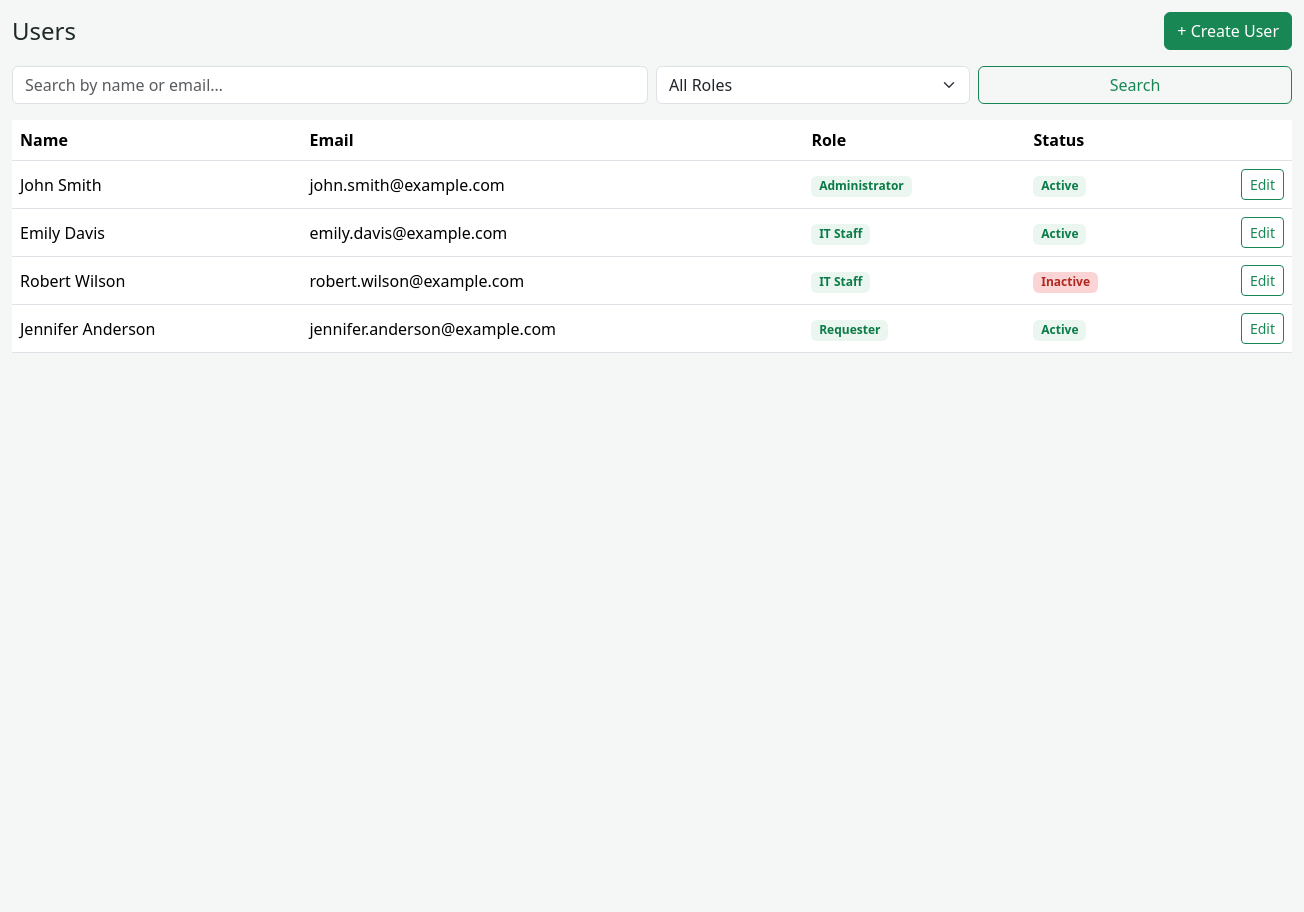
Scenario: UserManagement edit mode (UI-06, AC-11, BR-16) › deactivates another user and offers Reactivate for an inactive one
This screenshot has width=1304, height=912.
Click the button with aria-label "Edit Emily Davis".
click(1262, 232)  # box left=1241, top=217, right=1284, bottom=248
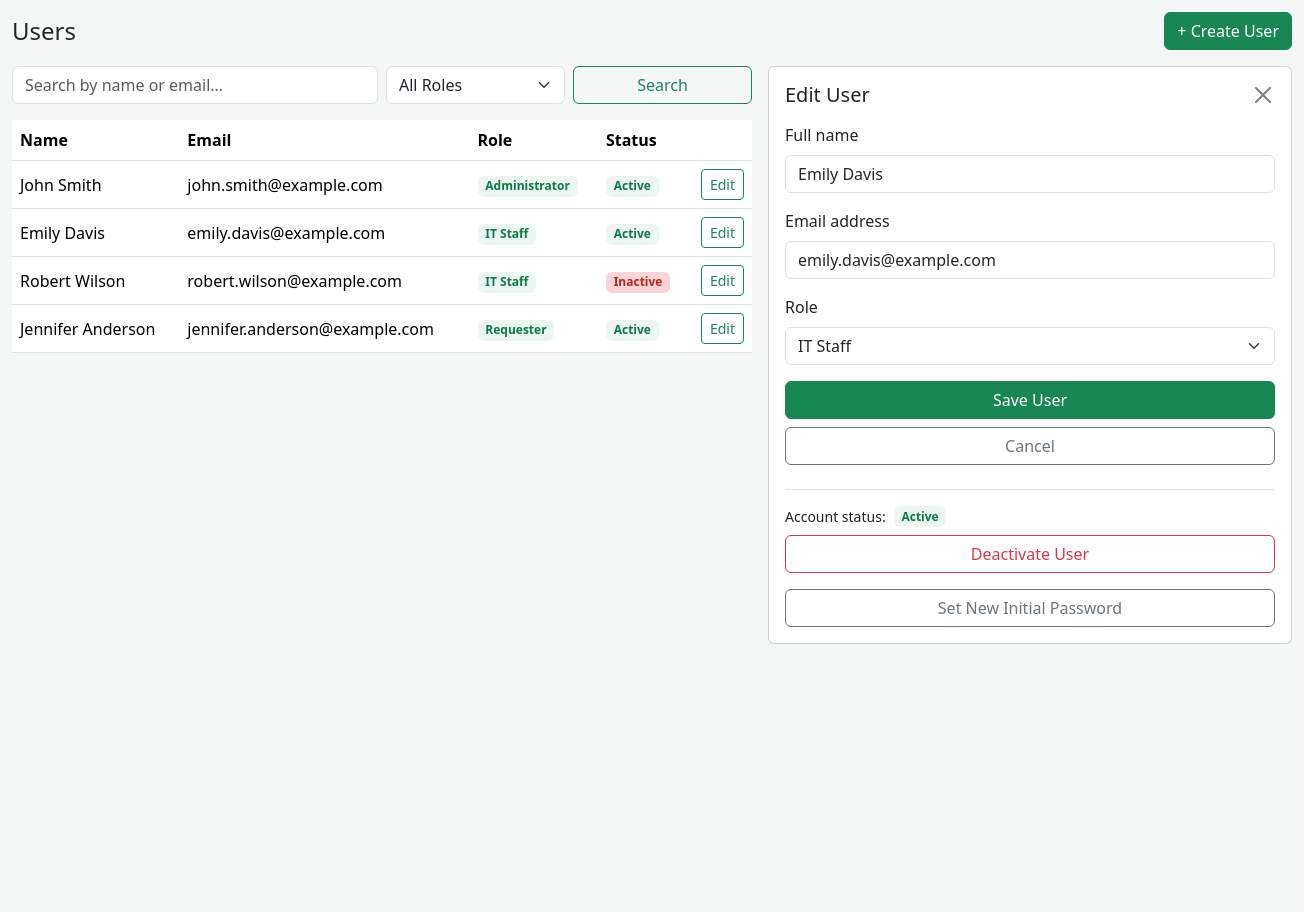
Click the button "Deactivate User".
click(1030, 554)  # box left=785, top=535, right=1275, bottom=573
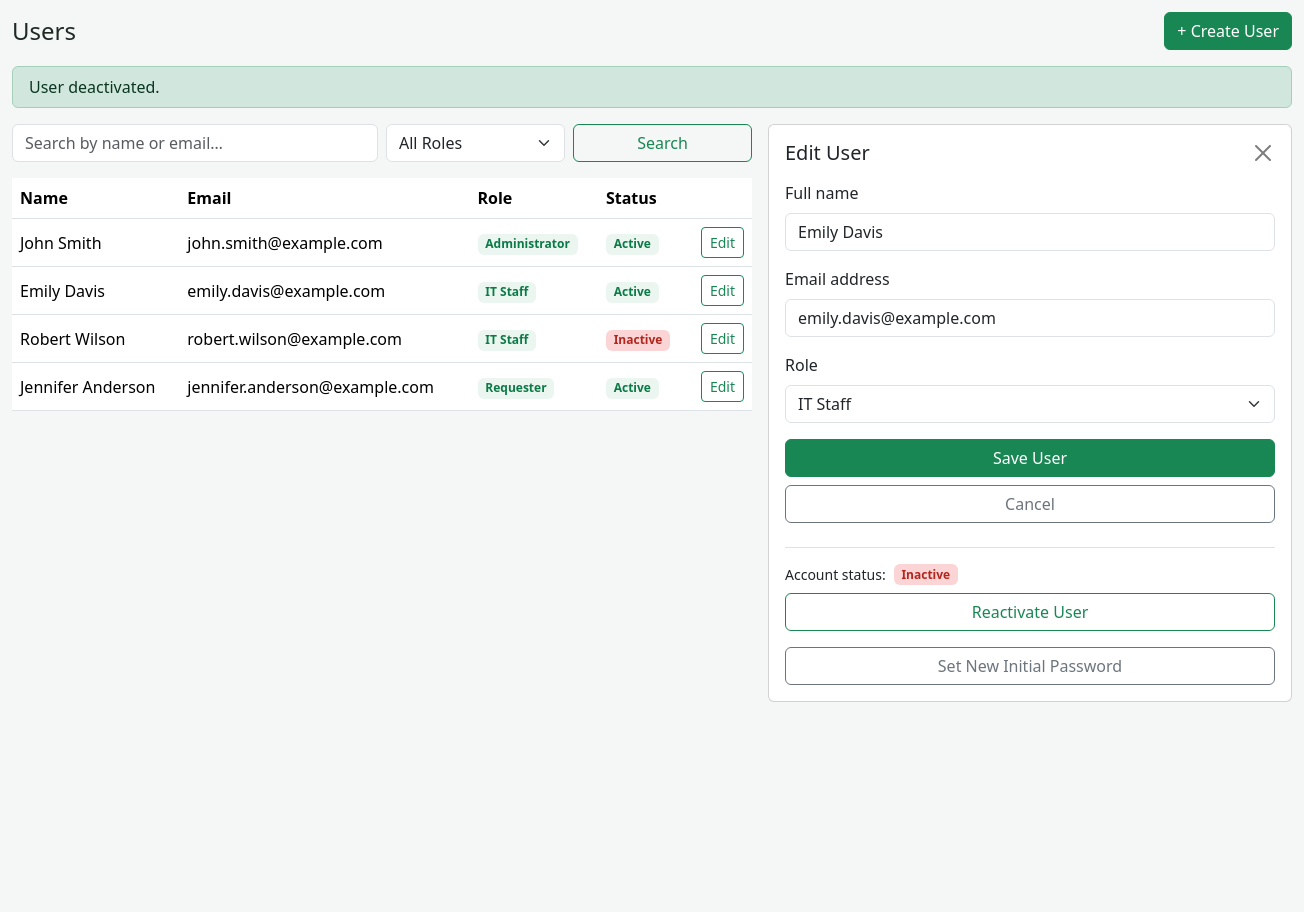
Expected: the button "Reactivate User" is enabled, left=785, top=593, right=1275, bottom=631
Expected: the text "User deactivated." is shown, left=12, top=66, right=1292, bottom=108
